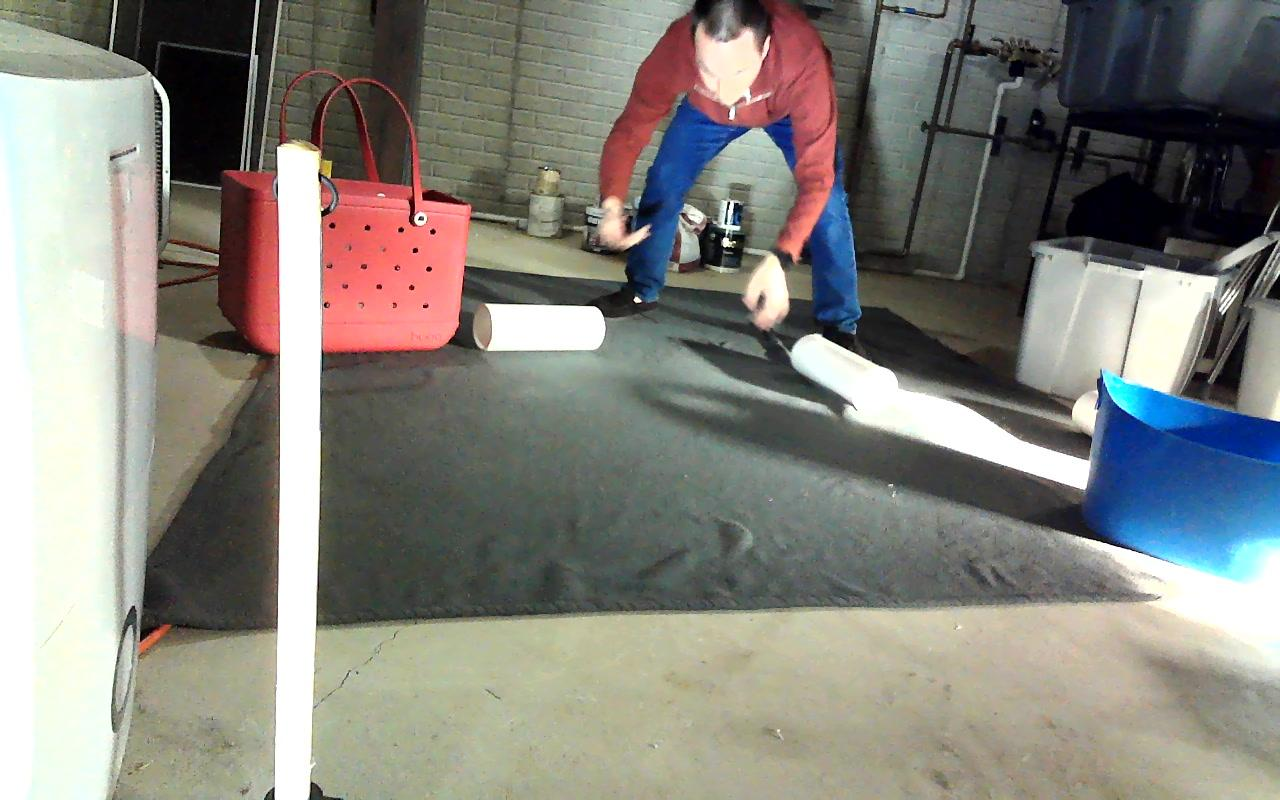coral: (791, 334, 901, 417), (475, 303, 606, 352)
